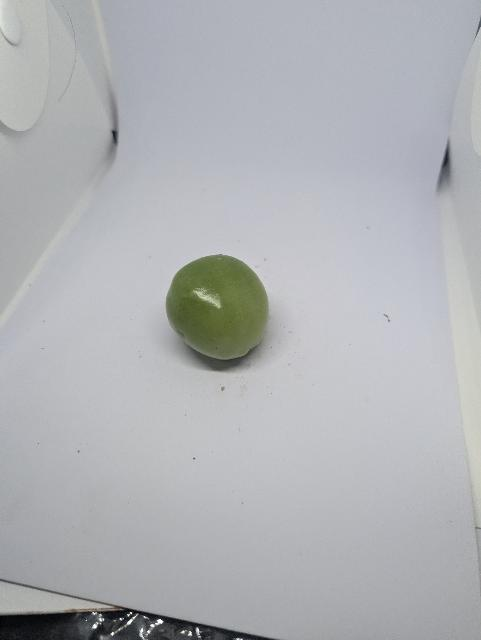green: (164, 252, 272, 362)
